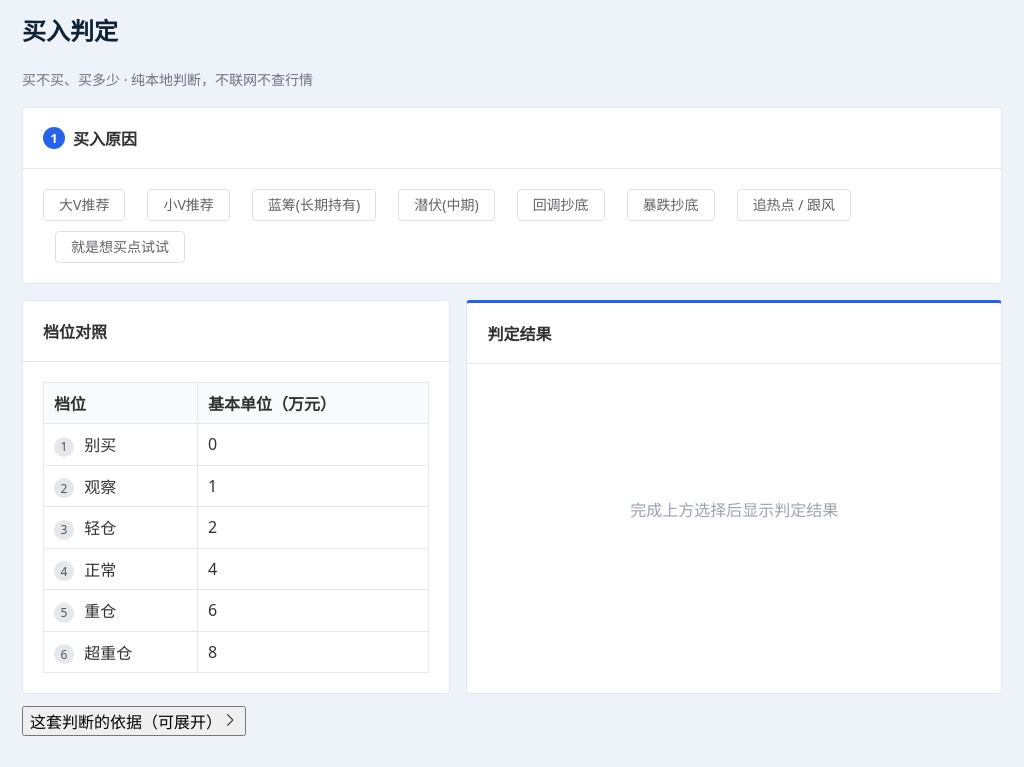
Scenario: BuyDecision › shows the scored result after completing three selections
The image size is (1024, 767).
Click the button with test id "reason-bigV".
click(84, 205)  # box [43,189,125,221]
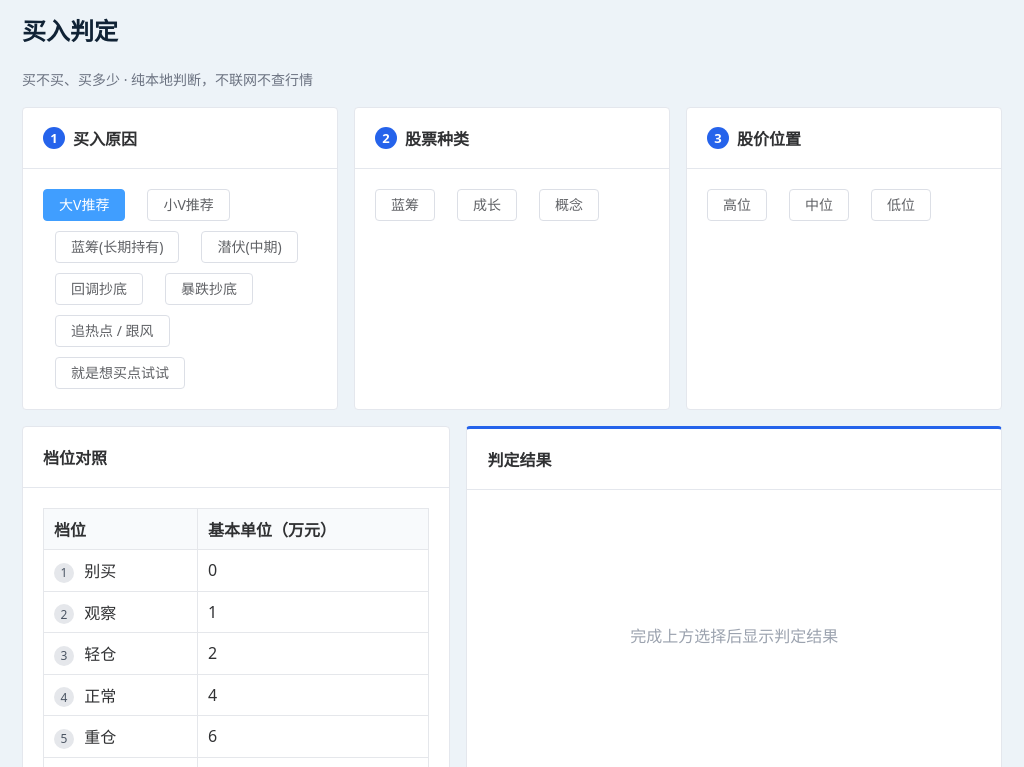
Click the button with test id "type-成长".
click(487, 205)  # box [457,189,517,221]
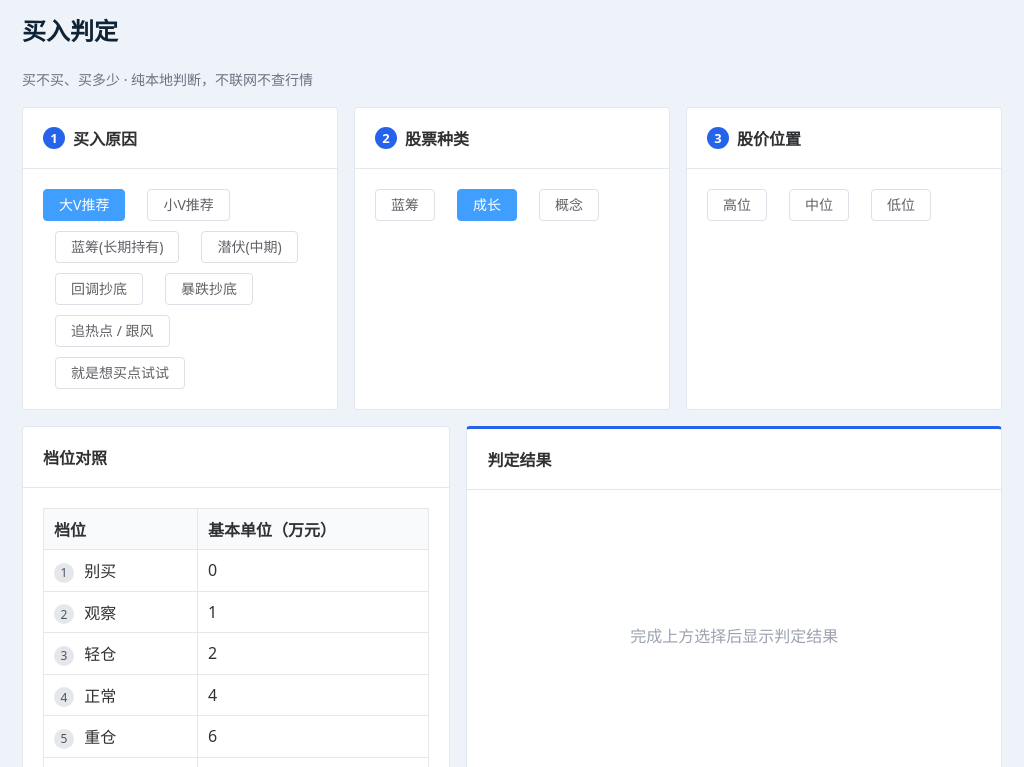
Click the button with test id "position-低位".
click(901, 205)  # box [871,189,931,221]
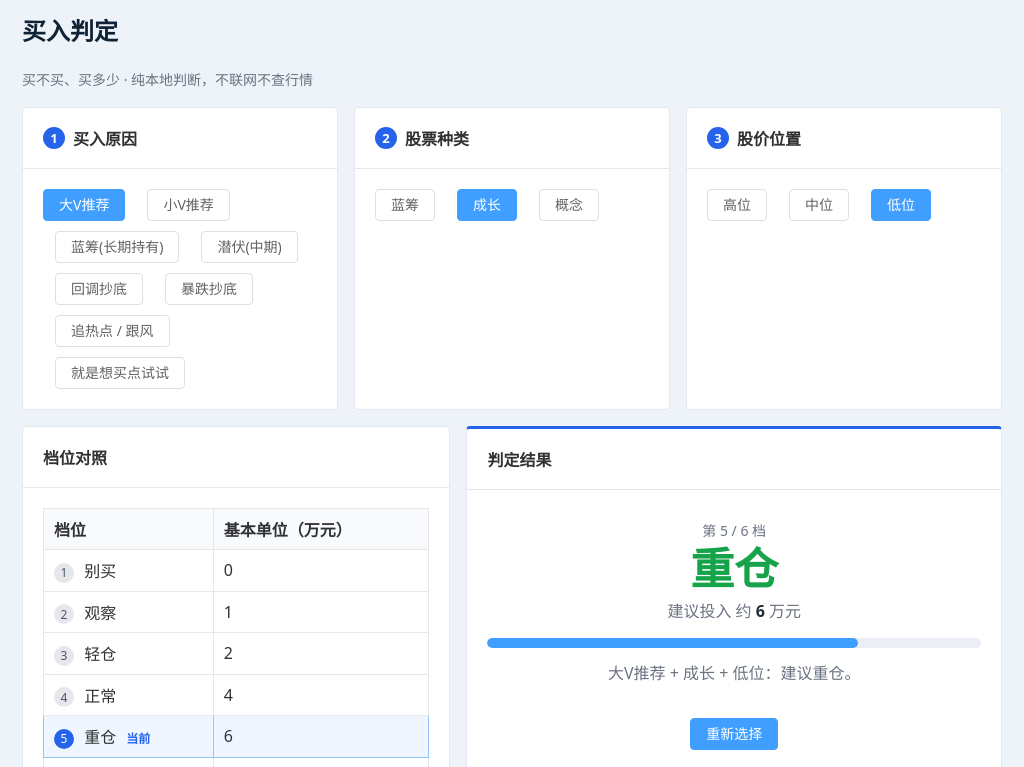
Result: the element with test id "decision-result" is shown at [487,510,981,760]
Result: the text with test id "result-level" reads "重仓" at [690,538,778,598]
Result: the element with test id "result-units" shows "6" at [756,600,765,622]
